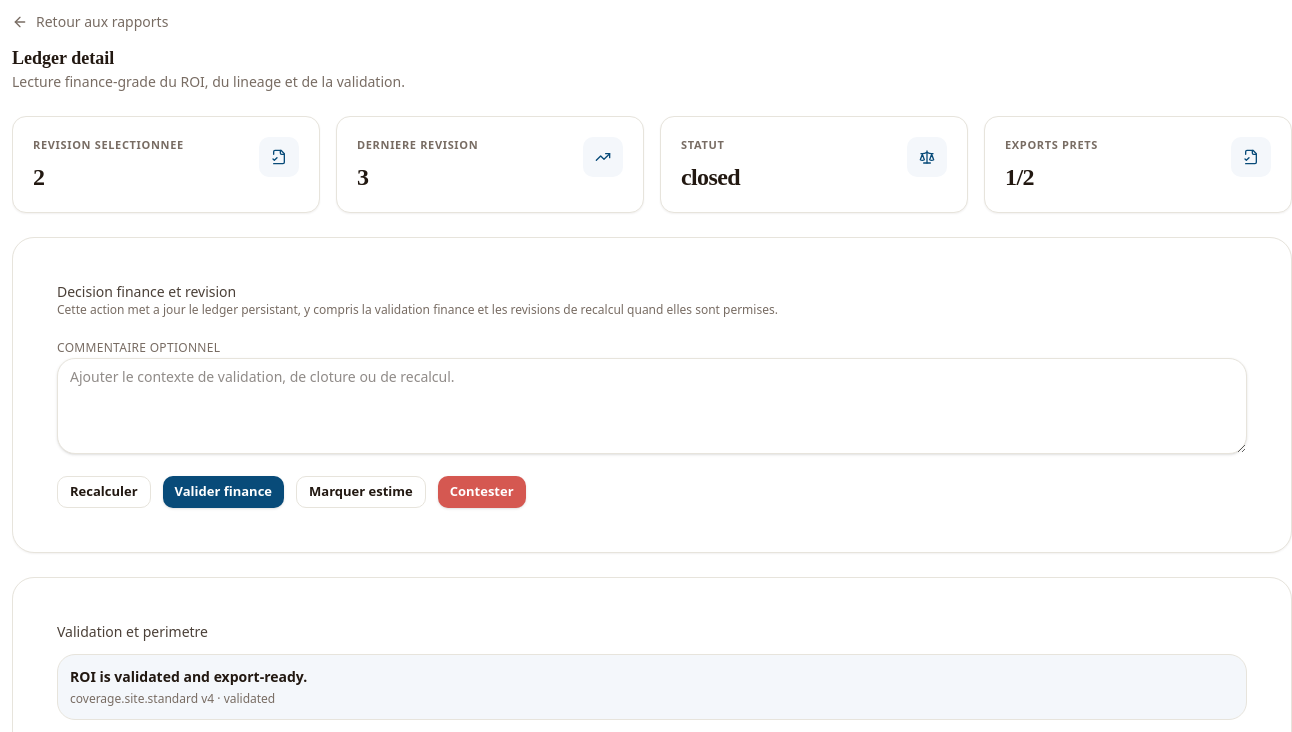
Test: LedgerDetailPage › submits a finance validation decision and refreshes the detail
Click the button "Valider finance": (223, 492) [162,476,284,508]
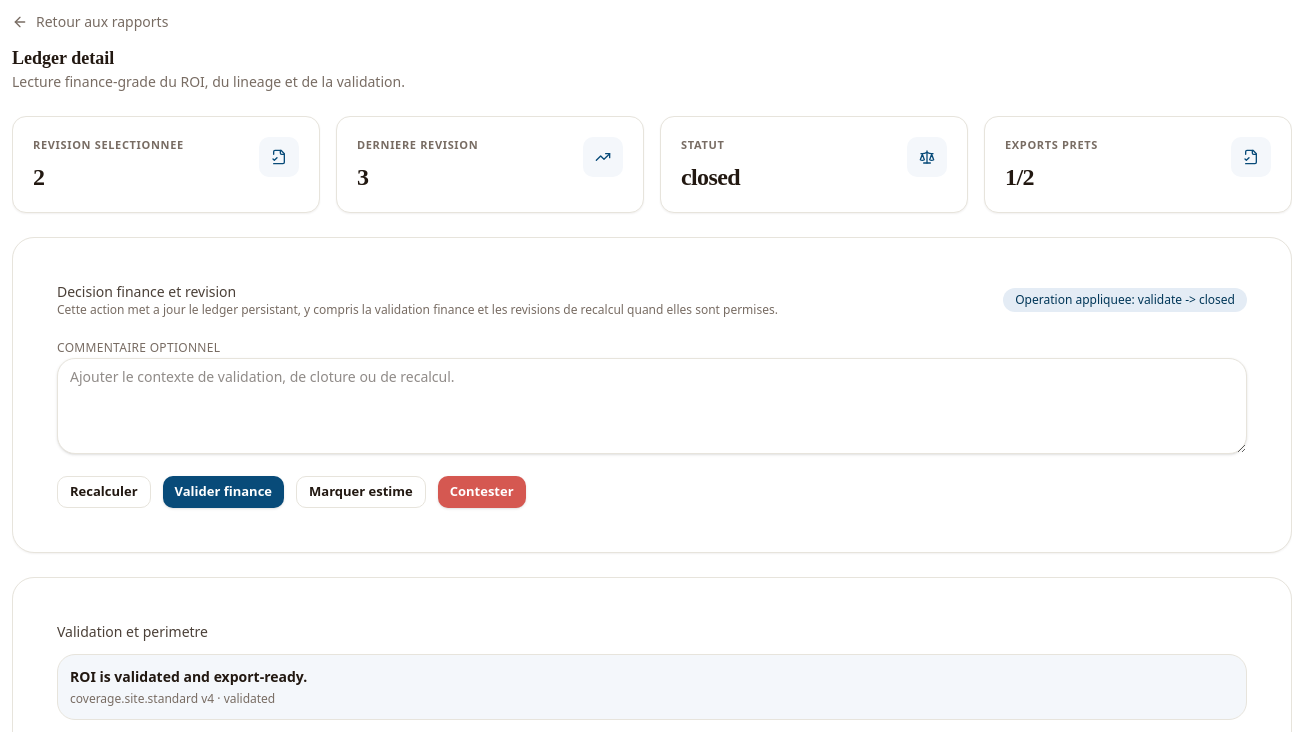
Check: the text "Operation appliquee: validate -> closed" is shown, box [1003,288,1247,312]
